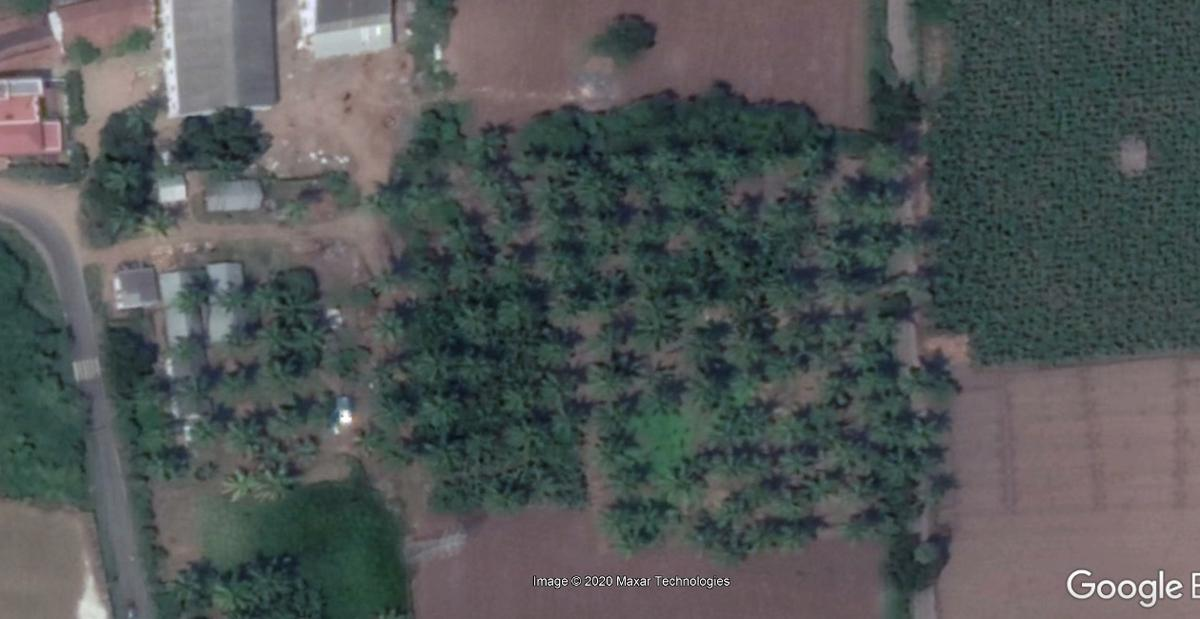coconut: (457, 339, 512, 390), (444, 246, 496, 295), (710, 399, 766, 443), (285, 318, 335, 367), (411, 389, 462, 436), (570, 169, 623, 212), (170, 558, 217, 606), (421, 437, 474, 479), (851, 223, 893, 276), (99, 151, 145, 198), (242, 559, 292, 601), (583, 210, 635, 250), (660, 169, 707, 212), (714, 195, 763, 235), (444, 209, 488, 253), (591, 421, 638, 462), (734, 295, 773, 344), (724, 363, 768, 406), (902, 411, 945, 455), (469, 119, 507, 168), (634, 307, 683, 345), (660, 458, 705, 499), (143, 439, 184, 483), (607, 496, 652, 536), (496, 296, 541, 336), (646, 373, 691, 413), (869, 449, 915, 488), (591, 352, 647, 384), (687, 317, 729, 359), (777, 439, 820, 479), (820, 231, 859, 275), (533, 239, 580, 275), (773, 185, 819, 221), (798, 141, 837, 182), (170, 280, 212, 318), (215, 565, 252, 608), (417, 345, 460, 382), (820, 359, 859, 399), (604, 452, 645, 490), (216, 461, 253, 503), (720, 443, 757, 485), (448, 296, 485, 337), (837, 432, 874, 473), (544, 368, 586, 404), (539, 177, 575, 219), (786, 403, 828, 439), (822, 312, 857, 355), (103, 199, 140, 239), (257, 463, 298, 499), (614, 519, 650, 560), (526, 455, 562, 496), (584, 271, 625, 307), (484, 473, 526, 508), (516, 417, 557, 452), (142, 199, 177, 239), (714, 139, 747, 181), (781, 488, 827, 518), (252, 277, 290, 313), (773, 343, 807, 382), (551, 406, 588, 441), (375, 309, 406, 350), (465, 426, 502, 459), (424, 168, 452, 204), (878, 417, 906, 450), (596, 321, 627, 350), (162, 334, 201, 357), (184, 413, 216, 441), (382, 395, 410, 424), (226, 413, 256, 439), (223, 281, 247, 311), (367, 604, 403, 619)
